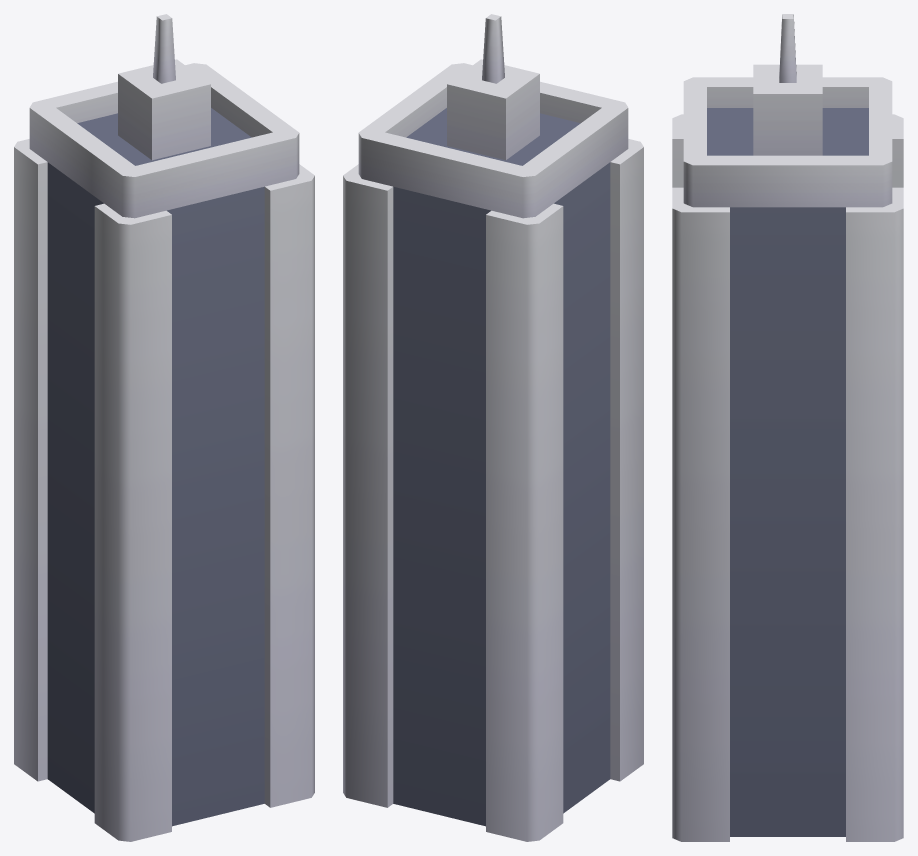
File: low-detail-building-l.glb
3 renders of one model, left to right at view 1: azimuth 30°, elevation 25°; view 2: azimuth 150°, elevation 25°; view 3: azimuth 270°, elevation 25°, orthographic. The views are drawn at different scales.
Visible parts, largest first — view 1: low-detail-building-l; view 2: low-detail-building-l; view 3: low-detail-building-l.
Boxes of the visible parts, x1,y1,x2,y2 form: low-detail-building-l: (14,14,314,841); low-detail-building-l: (343,14,643,841); low-detail-building-l: (672,14,903,841).
Bounding box in the file's own units: 0.5 × 1.85 × 0.5.
1 material, 1 textured.
